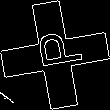P_W: (27, 33, 83, 77)
